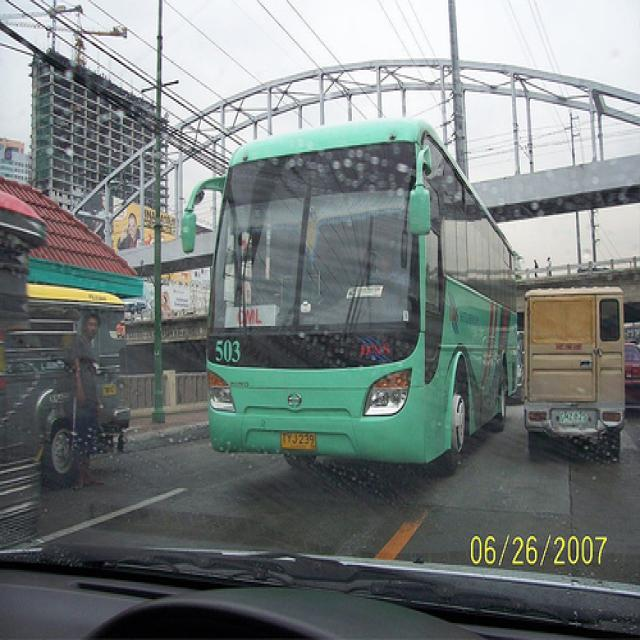light_vehicle: (523, 285, 626, 461)
